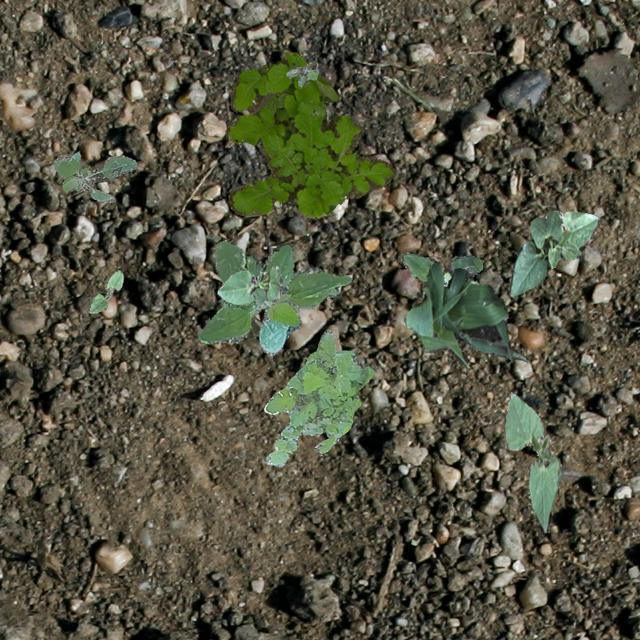crop: (198, 240, 350, 354), (404, 262, 526, 366), (508, 210, 600, 296), (504, 392, 560, 532), (217, 264, 280, 304), (88, 268, 122, 312)
weed: (224, 52, 393, 216), (264, 328, 374, 466), (52, 150, 136, 202), (401, 252, 482, 286), (286, 58, 316, 86)
